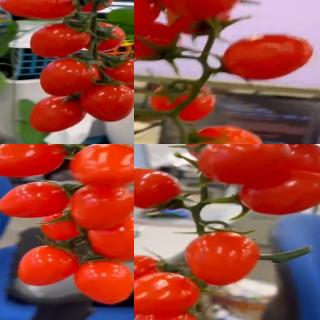tomato: (221, 34, 313, 83), (195, 144, 293, 187), (186, 234, 262, 288), (238, 167, 320, 213), (134, 271, 200, 318), (68, 184, 134, 230), (73, 257, 134, 306), (148, 79, 217, 122), (16, 245, 82, 288), (71, 144, 134, 189), (0, 181, 69, 218), (39, 56, 100, 96), (28, 94, 86, 134), (28, 22, 92, 58), (0, 144, 64, 180), (88, 212, 134, 262), (134, 167, 185, 211), (164, 2, 227, 36), (80, 82, 134, 121), (156, 0, 244, 21), (134, 22, 180, 62), (0, 0, 82, 22), (40, 207, 94, 240), (279, 144, 320, 184), (189, 124, 262, 144), (87, 21, 127, 52), (134, 254, 168, 287), (100, 57, 134, 89), (134, 0, 160, 34), (134, 310, 196, 320), (74, 0, 114, 12)
